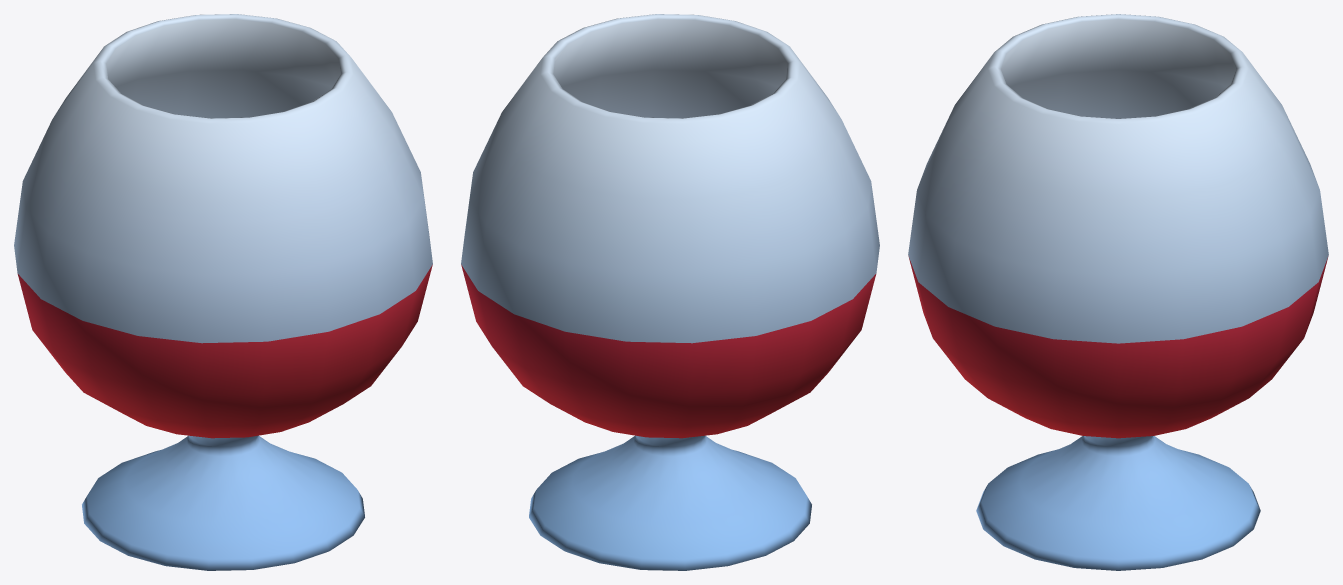
The model's file is cocktail_005.fbx.
3 views of the same model, side by side, from view 1: azimuth 30°, elevation 25°; view 2: azimuth 150°, elevation 25°; view 3: azimuth 270°, elevation 25° (orthographic).
Visible parts, largest first — view 1: cocktail_005; view 2: cocktail_005; view 3: cocktail_005.
Part boxes in pixels (bbox=[...]): cocktail_005: bbox=[14, 14, 432, 570]; cocktail_005: bbox=[461, 14, 879, 570]; cocktail_005: bbox=[908, 14, 1328, 570].
Size of the model in its own units: 10.11 by 10.11 by 11.78.
